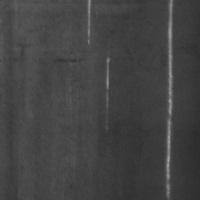scratches: (162, 0, 176, 199)
